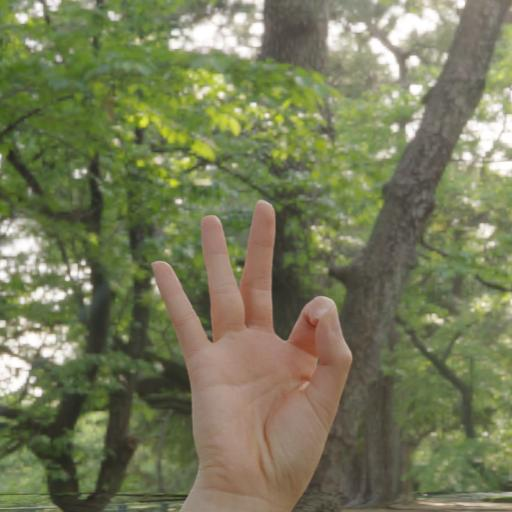F: (132, 193, 368, 508)
